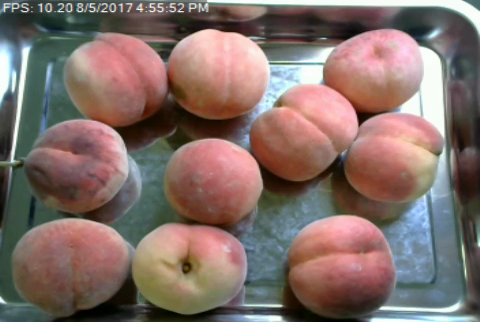Peach: (11, 216, 128, 316), (285, 215, 395, 319), (248, 83, 358, 181), (134, 222, 247, 316), (64, 31, 168, 128), (24, 118, 128, 213), (168, 25, 269, 120), (342, 111, 442, 203), (321, 25, 424, 114), (163, 138, 263, 225)
